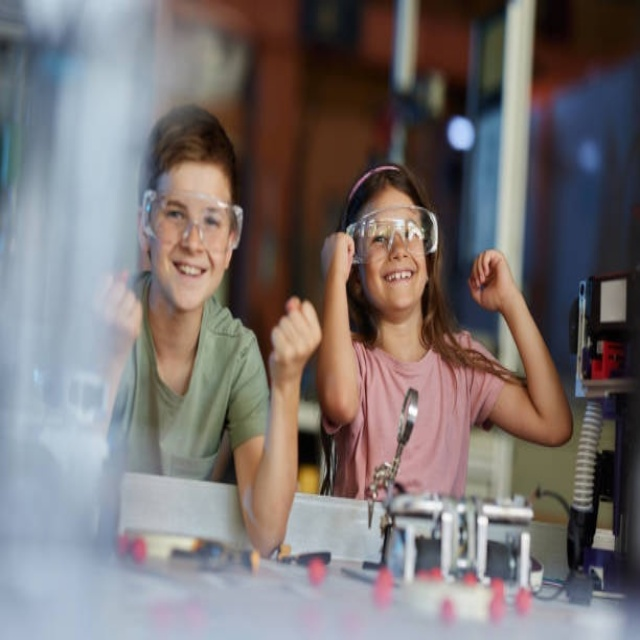Gafas: (142, 190, 244, 254), (345, 205, 439, 266)
Sin_guantes: (268, 295, 323, 378), (93, 268, 144, 347), (465, 246, 515, 314), (318, 229, 358, 285)
Sin_mascara: (169, 256, 210, 296), (379, 264, 417, 306)
